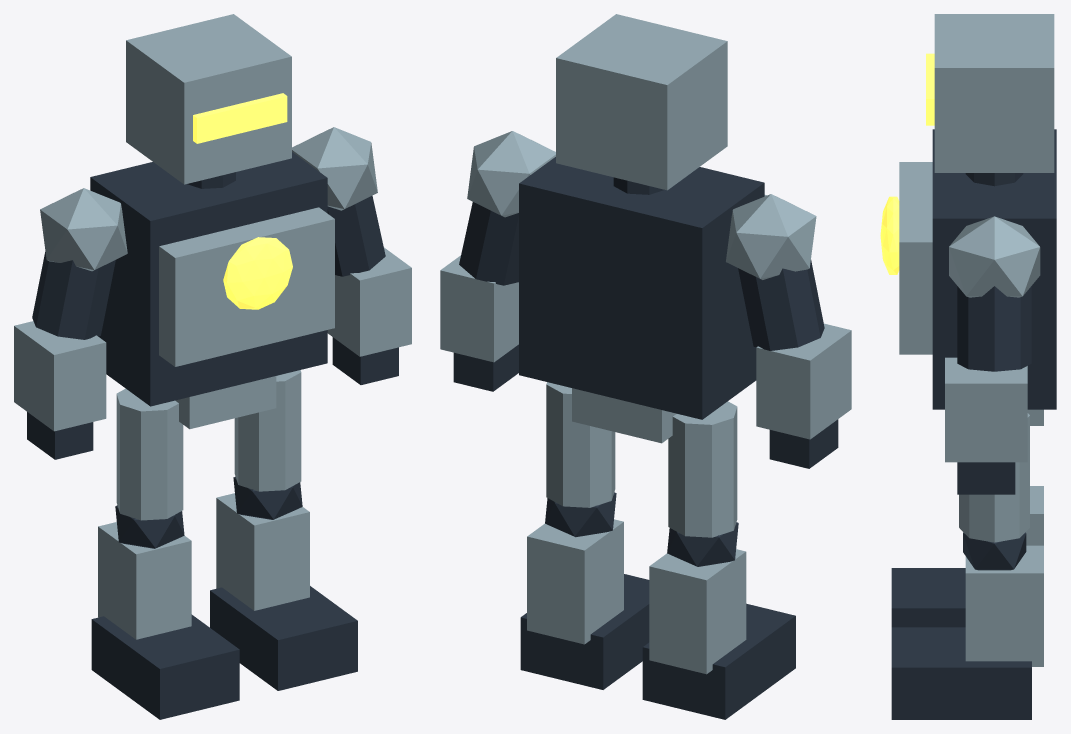
The model's file is Sentinel.fbx.
3 renders of one model, left to right at view 1: azimuth 30°, elevation 25°; view 2: azimuth 150°, elevation 25°; view 3: azimuth 270°, elevation 25°, orthographic. The views are drawn at different scales.
Visible parts, largest first — view 1: Sentinel_RenderMesh; view 2: Sentinel_RenderMesh; view 3: Sentinel_RenderMesh.
Boxes of the visible parts, x1,y1,x2,y2 form: Sentinel_RenderMesh: (14,14,411,719); Sentinel_RenderMesh: (440,14,851,719); Sentinel_RenderMesh: (880,14,1056,719).
Size of the model in its own units: 1.03 by 1.68 by 0.426.
